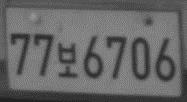0: (131, 37, 151, 81)
6: (83, 34, 105, 78), (154, 37, 175, 82)
7: (8, 31, 31, 77), (105, 34, 127, 80), (33, 32, 54, 76)
보: (54, 41, 79, 79)
